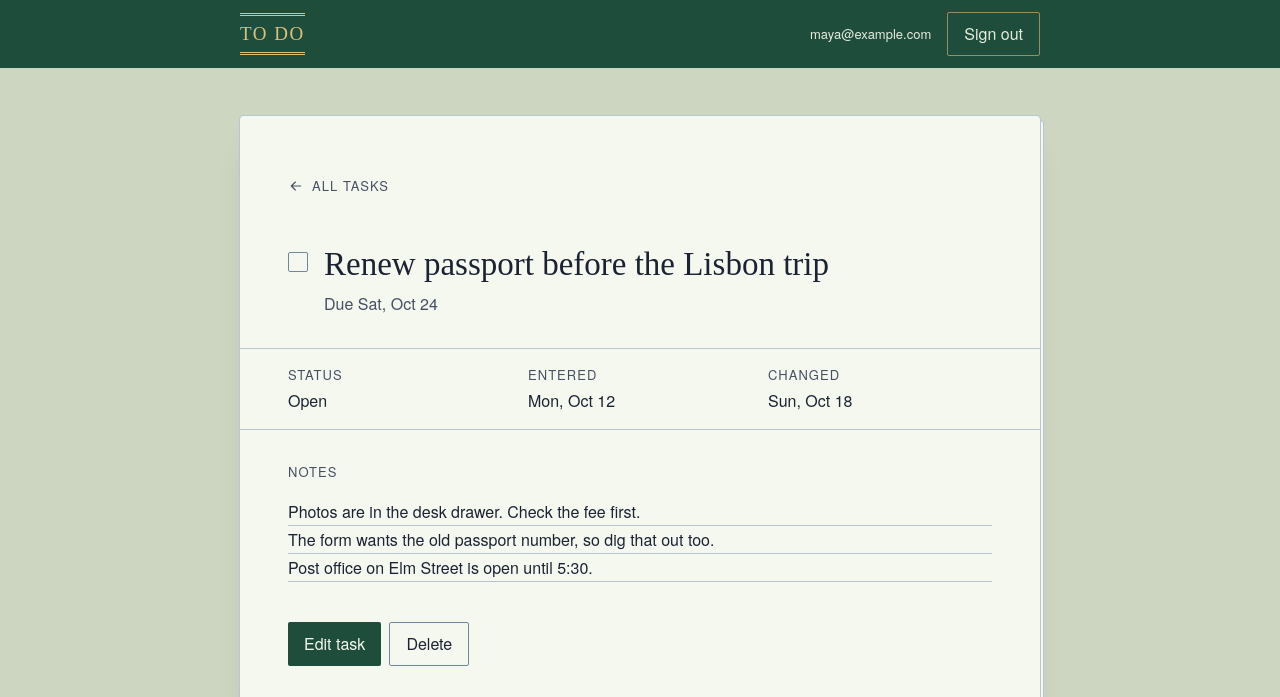
Test: TaskDetailPage › use the latest discards the draft
Click the button "Edit task" at (335, 644), box x1=288 y1=622 x2=381 y2=666
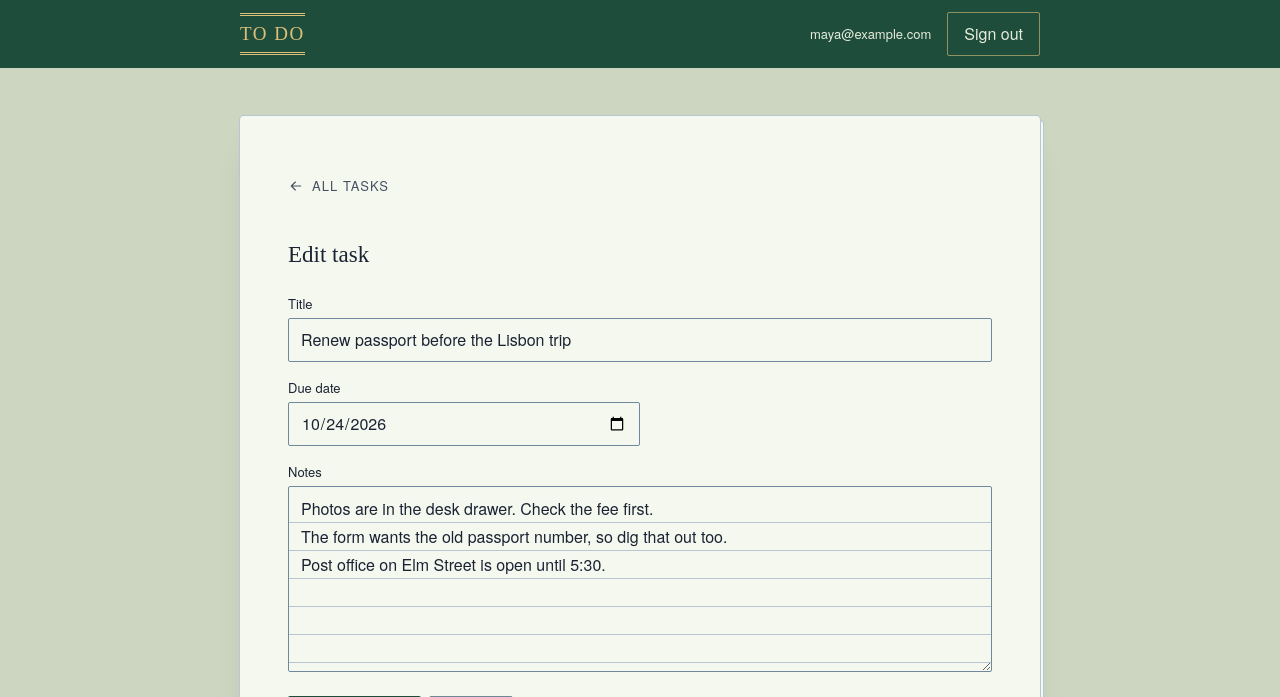
Replace the text in the field labelled "Title" with "My title" at (640, 340), box x1=288 y1=318 x2=992 y2=362
(page scrolled)
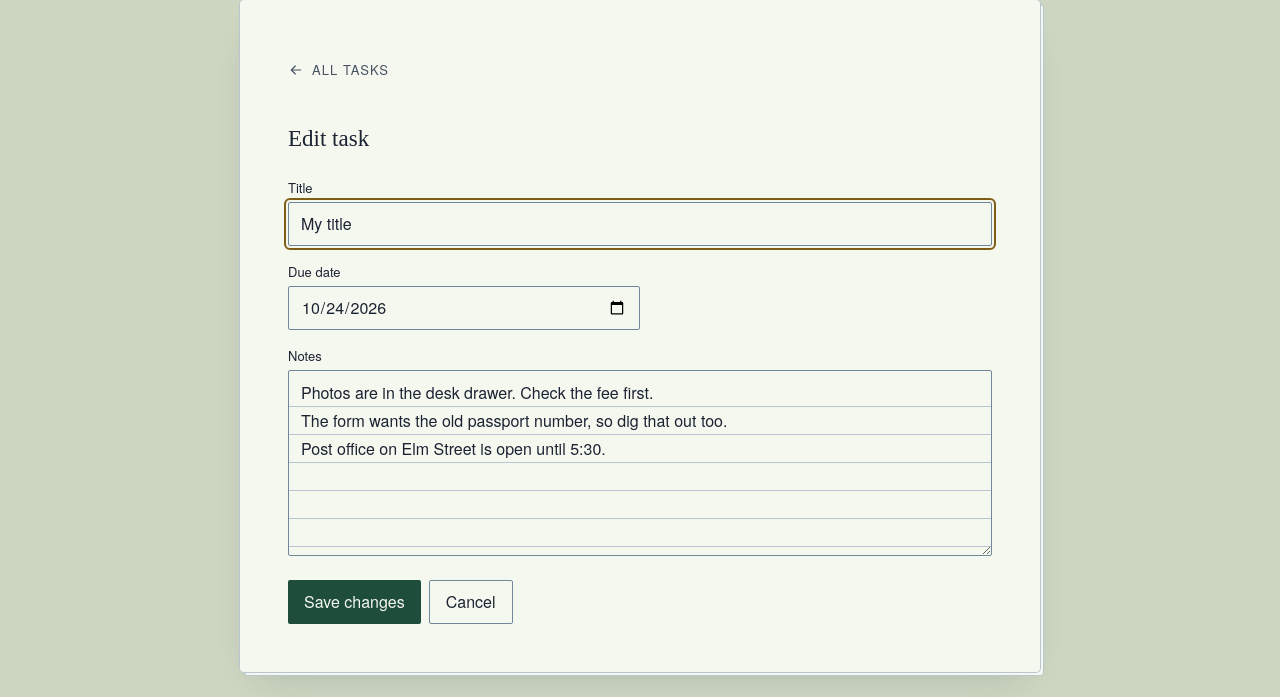
Click the button "Save changes" at (354, 602), box x1=288 y1=580 x2=421 y2=624
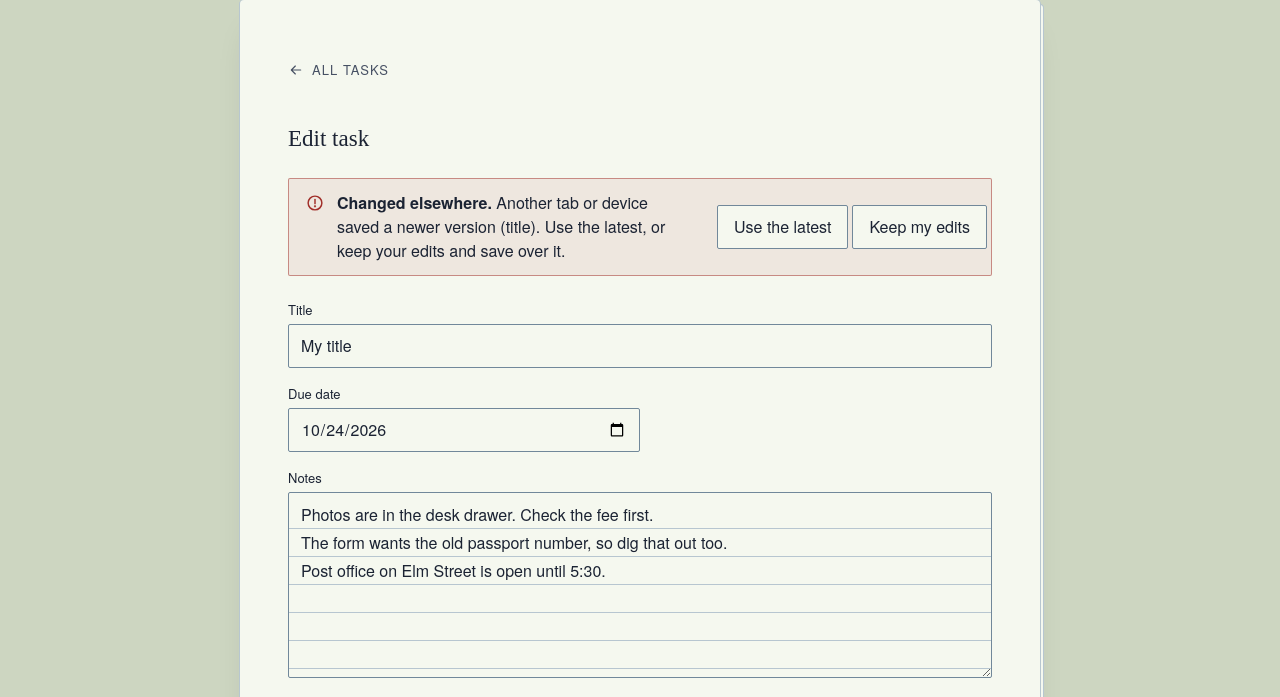
Click the button "Use the latest" at (783, 227), box x1=717 y1=205 x2=848 y2=249
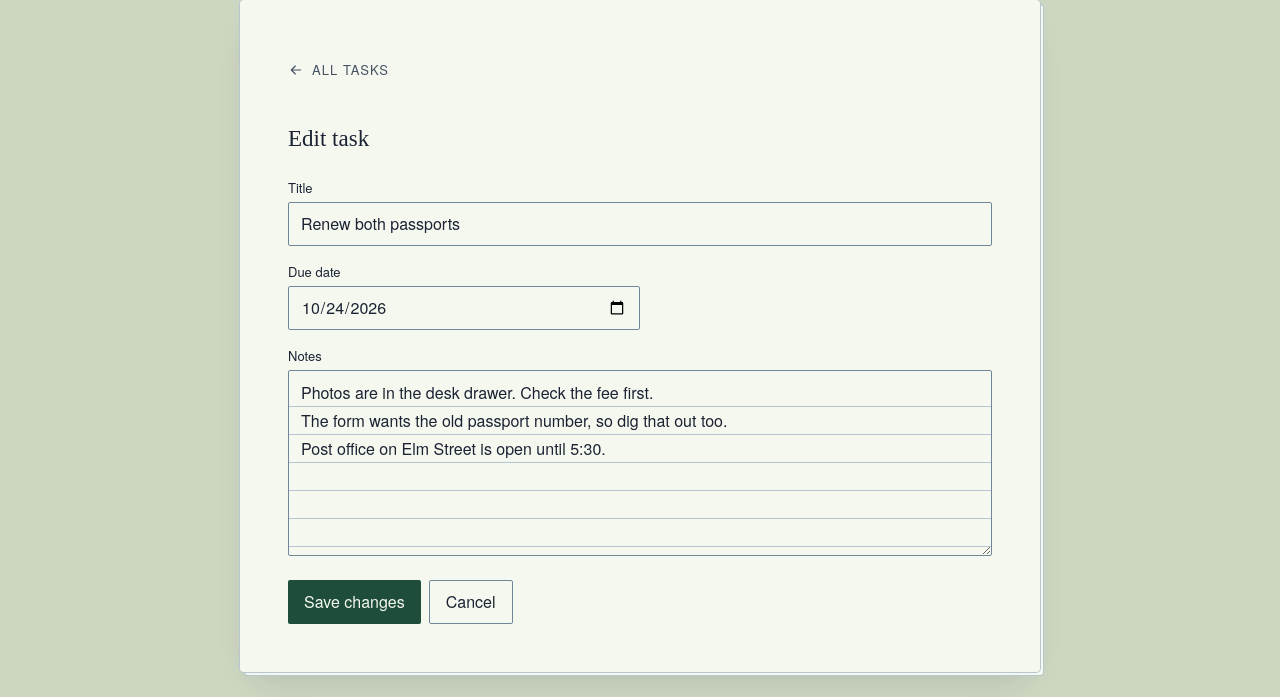
Check: the field labelled "Title" holds "Renew both passports", box x1=288 y1=202 x2=992 y2=246
